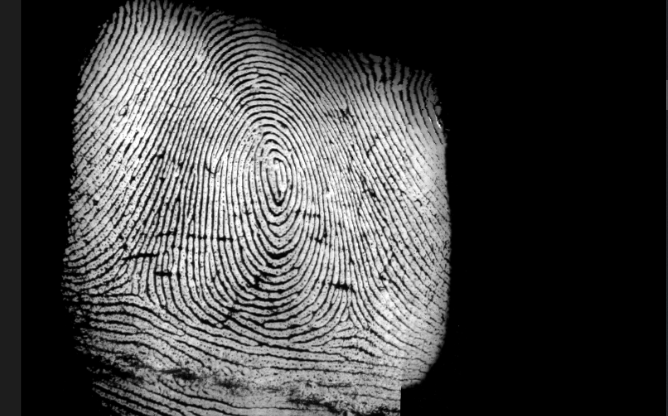nucelo: (261, 157, 293, 199)
verticilo: (331, 303, 369, 332), (120, 278, 148, 302)
